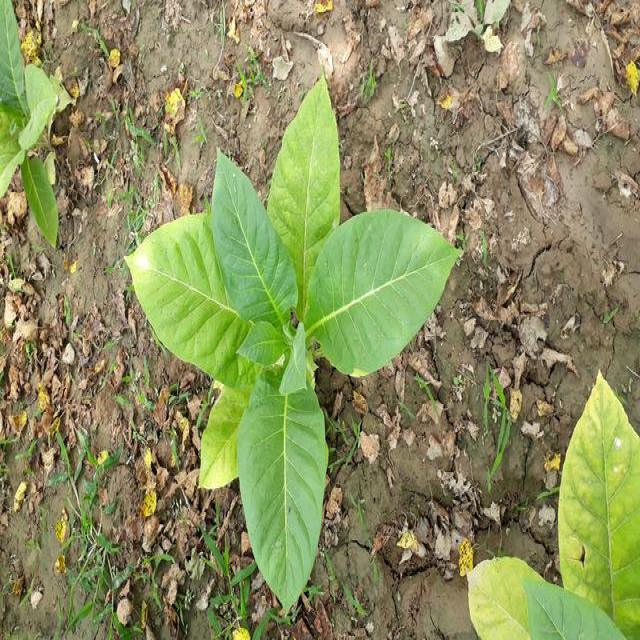crop: (144, 82, 462, 592), (462, 377, 639, 640), (0, 0, 69, 250)
